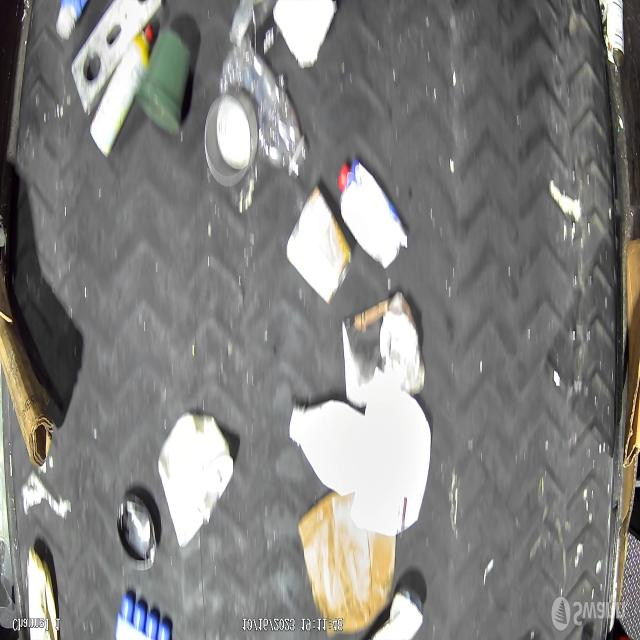can: (286, 184, 353, 306), (204, 92, 260, 190), (602, 0, 626, 69)
plastic_bottle: (215, 40, 307, 184)
